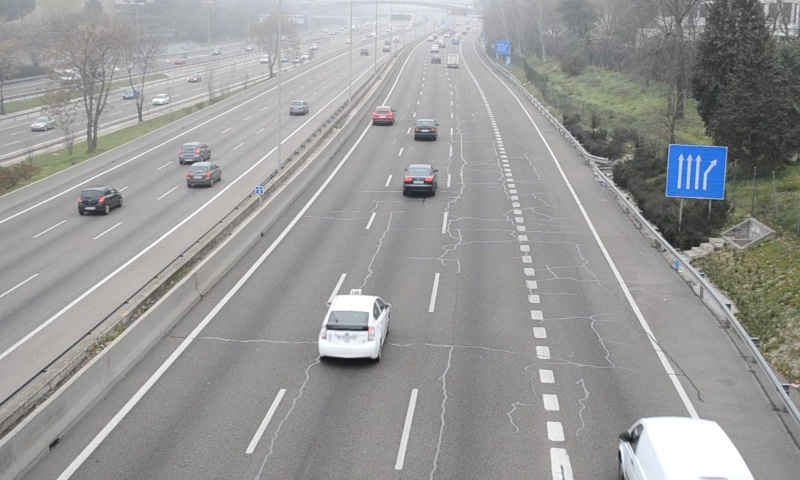car: (319, 295, 391, 360), (402, 164, 437, 196), (414, 118, 438, 142), (372, 105, 394, 126)
van: (620, 417, 756, 480)
